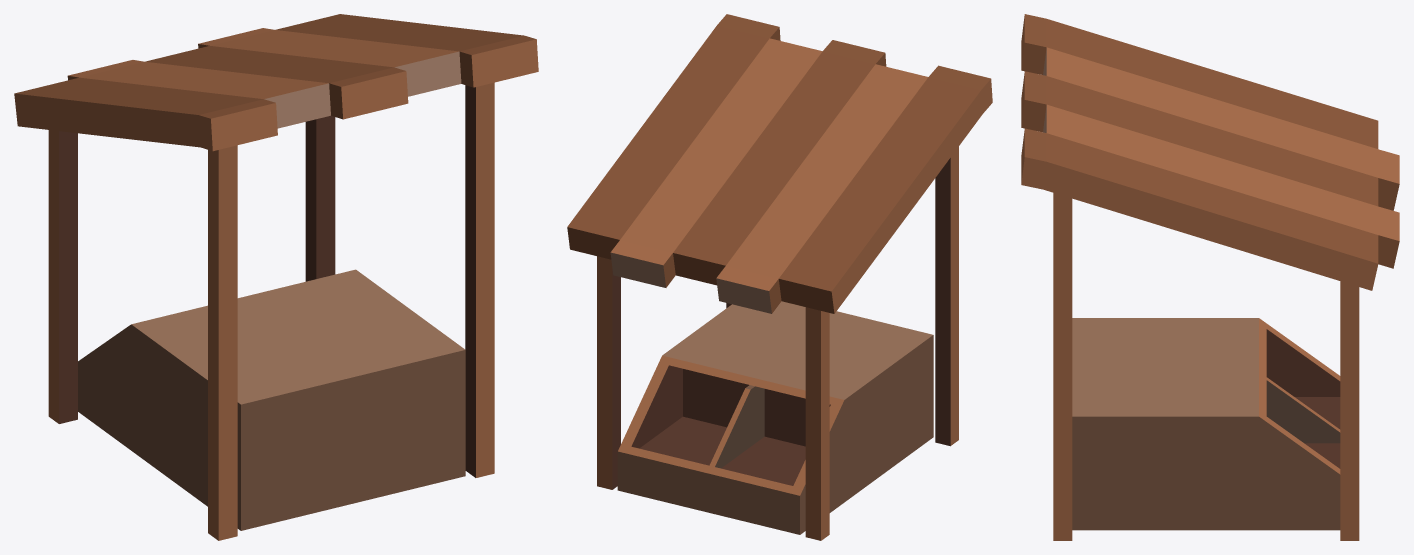
File: TB_Prop_Stand.FBX
3 views of the same model, side by side, from view 1: azimuth 30°, elevation 25°; view 2: azimuth 150°, elevation 25°; view 3: azimuth 270°, elevation 25° (orthographic). The views are drawn at different scales.
Parts seen in each view (by area): view 1: TB_Prop_Stand; view 2: TB_Prop_Stand; view 3: TB_Prop_Stand.
Part boxes in pixels (x1=…): TB_Prop_Stand: x1=14, y1=14, x2=538, y2=540; TB_Prop_Stand: x1=567, y1=14, x2=992, y2=540; TB_Prop_Stand: x1=1021, y1=14, x2=1399, y2=540.
Size of the model in its own units: 2.39 by 3.08 by 2.67.
